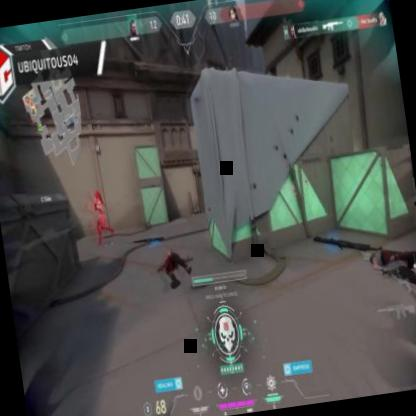enemy: (90, 188, 113, 244)
enemy_head: (93, 191, 99, 202)
